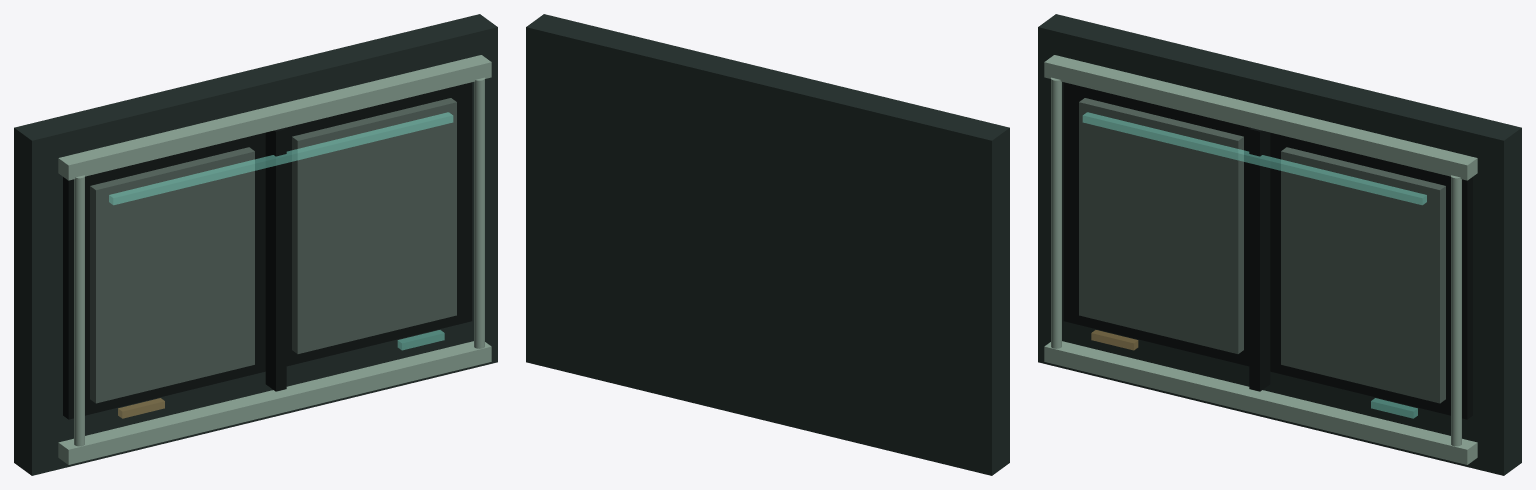
The model's file is hp_room_wall_panel_residential.glb.
The picture shows the model from 3 angles, left to right: view 1: azimuth 30°, elevation 25°; view 2: azimuth 150°, elevation 25°; view 3: azimuth 330°, elevation 25°; orthographic projection.
Parts seen in each view (by area): view 1: residential_wall_structural_back, residential_wall_main_panel_left, residential_wall_main_panel_right, residential_wall_inset_shadow, residential_wall_top_rail, residential_wall_bottom_rail, residential_wall_center_seam, residential_wall_status_strip, residential_wall_side_pipe_-1.03, residential_wall_side_pipe_1.03, residential_wall_data_chip_b, residential_wall_data_chip_a; view 2: residential_wall_structural_back; view 3: residential_wall_structural_back, residential_wall_main_panel_right, residential_wall_main_panel_left, residential_wall_inset_shadow, residential_wall_top_rail, residential_wall_bottom_rail, residential_wall_center_seam, residential_wall_status_strip, residential_wall_side_pipe_1.03, residential_wall_side_pipe_-1.03, residential_wall_data_chip_a, residential_wall_data_chip_b.
Boxes of the visible parts, bbox=[...] form: residential_wall_structural_back: bbox=[14, 14, 497, 475]; residential_wall_main_panel_left: bbox=[90, 147, 254, 403]; residential_wall_main_panel_right: bbox=[292, 98, 456, 353]; residential_wall_inset_shadow: bbox=[63, 82, 472, 419]; residential_wall_top_rail: bbox=[58, 55, 491, 180]; residential_wall_bottom_rail: bbox=[58, 341, 491, 464]; residential_wall_center_seam: bbox=[265, 128, 286, 391]; residential_wall_status_strip: bbox=[109, 112, 453, 204]; residential_wall_side_pipe_-1.03: bbox=[74, 175, 84, 446]; residential_wall_side_pipe_1.03: bbox=[474, 77, 484, 348]; residential_wall_data_chip_b: bbox=[397, 330, 444, 350]; residential_wall_data_chip_a: bbox=[118, 398, 164, 418]; residential_wall_structural_back: bbox=[526, 14, 1009, 475]; residential_wall_structural_back: bbox=[1038, 14, 1521, 475]; residential_wall_main_panel_right: bbox=[1281, 147, 1445, 403]; residential_wall_main_panel_left: bbox=[1079, 98, 1243, 353]; residential_wall_inset_shadow: bbox=[1063, 82, 1472, 419]; residential_wall_top_rail: bbox=[1044, 55, 1477, 180]; residential_wall_bottom_rail: bbox=[1044, 341, 1477, 464]; residential_wall_center_seam: bbox=[1249, 128, 1270, 391]; residential_wall_status_strip: bbox=[1082, 112, 1426, 204]; residential_wall_side_pipe_1.03: bbox=[1451, 175, 1461, 446]; residential_wall_side_pipe_-1.03: bbox=[1051, 77, 1061, 348]; residential_wall_data_chip_a: bbox=[1091, 330, 1138, 350]; residential_wall_data_chip_b: bbox=[1371, 398, 1417, 418].
Size of the model in its own units: 2.4 by 1.65 by 0.326.
